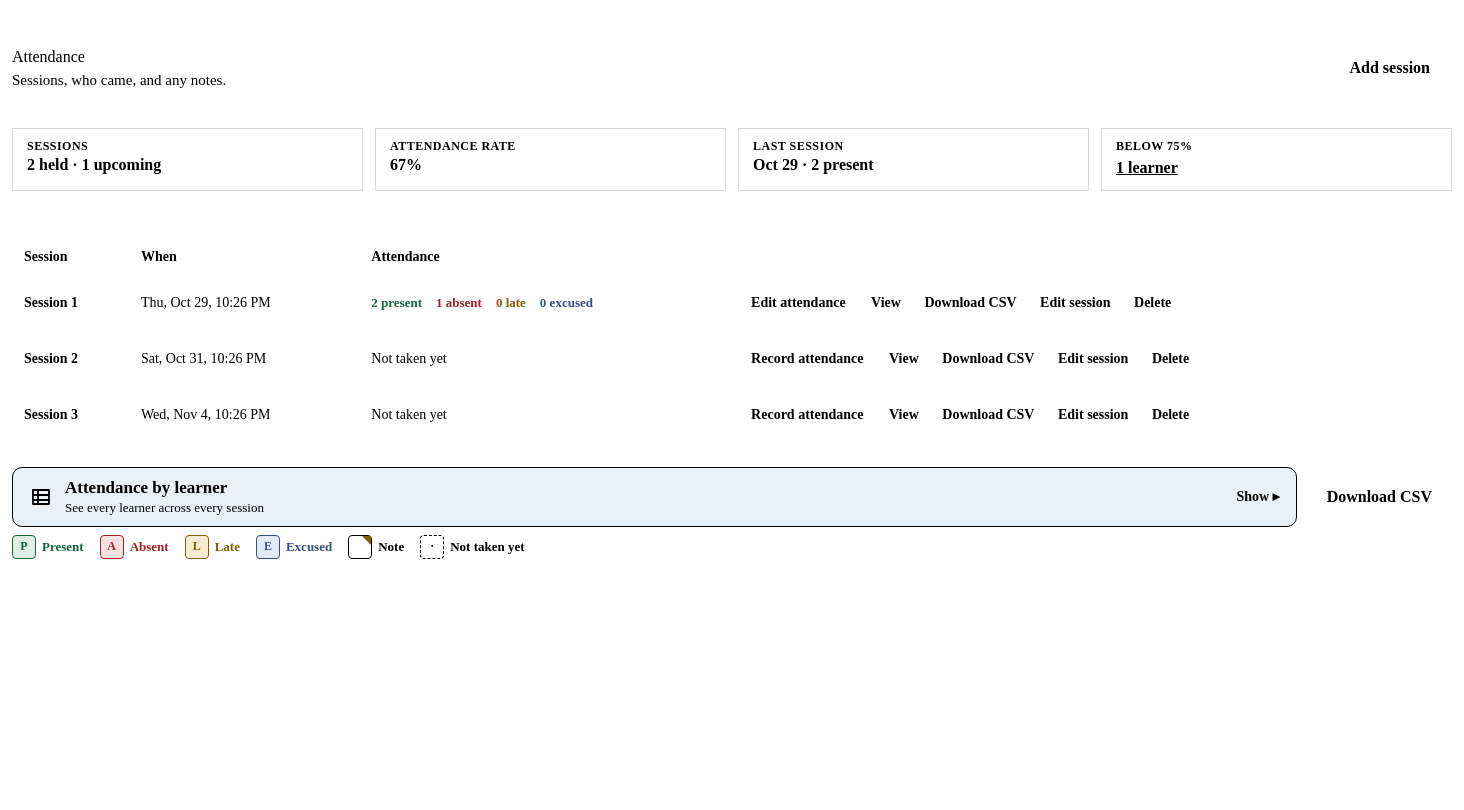
attendance by learner grid › uses the roster table, links each learner to their record, and shows notes as tooltips
The width and height of the screenshot is (1464, 810).
Click the button "Attendance by learner" at (146, 487), box [12,467,1297,527]
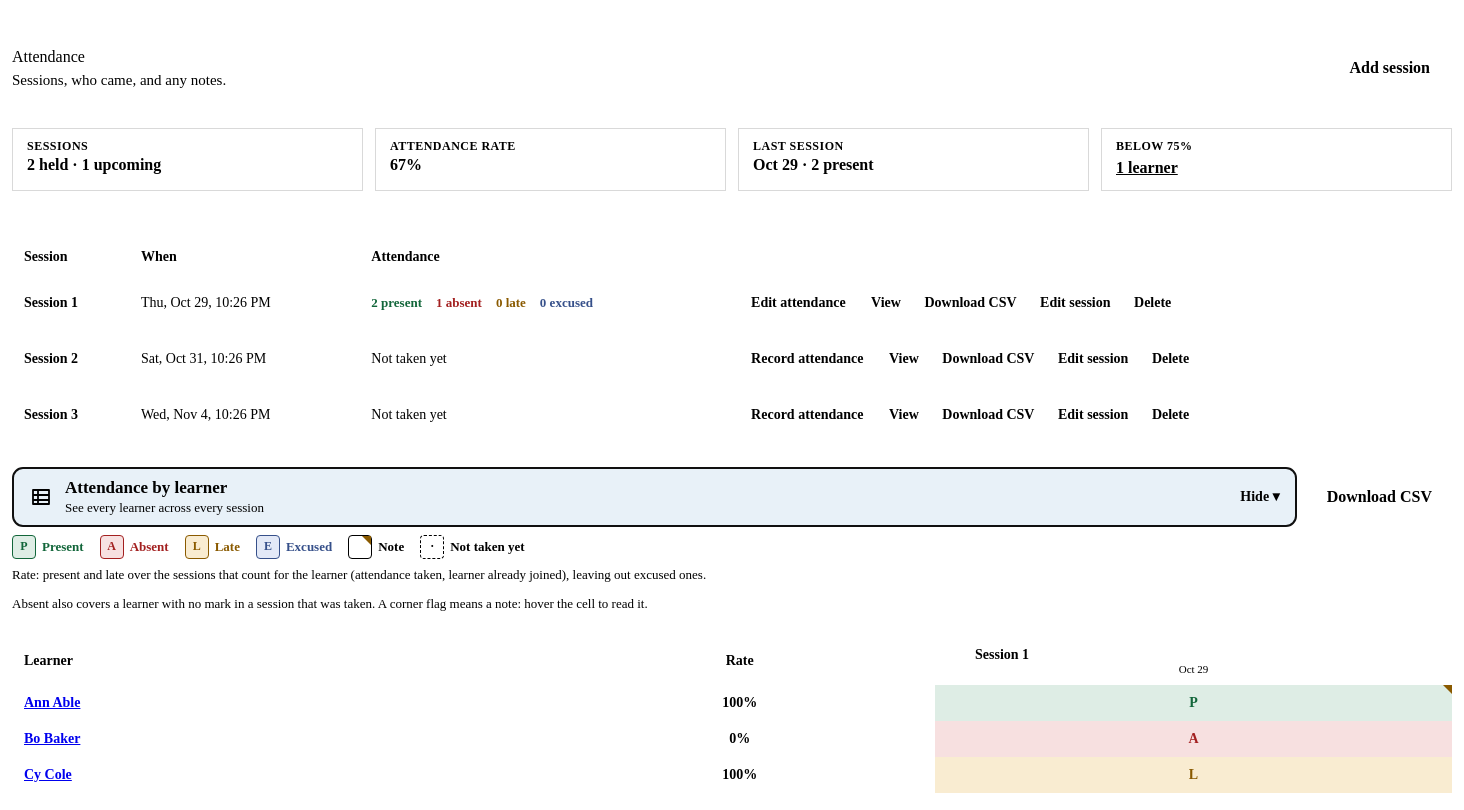
Expected: the text "100%" in the row of "Ann Able" is shown, [722,695,757,710]
Expected: the text "A" in the row of "Bo Baker" is shown, [1188,731,1199,746]
Expected: the text "L" in the row of "Cy Cole" is shown, [1189,767,1198,782]
